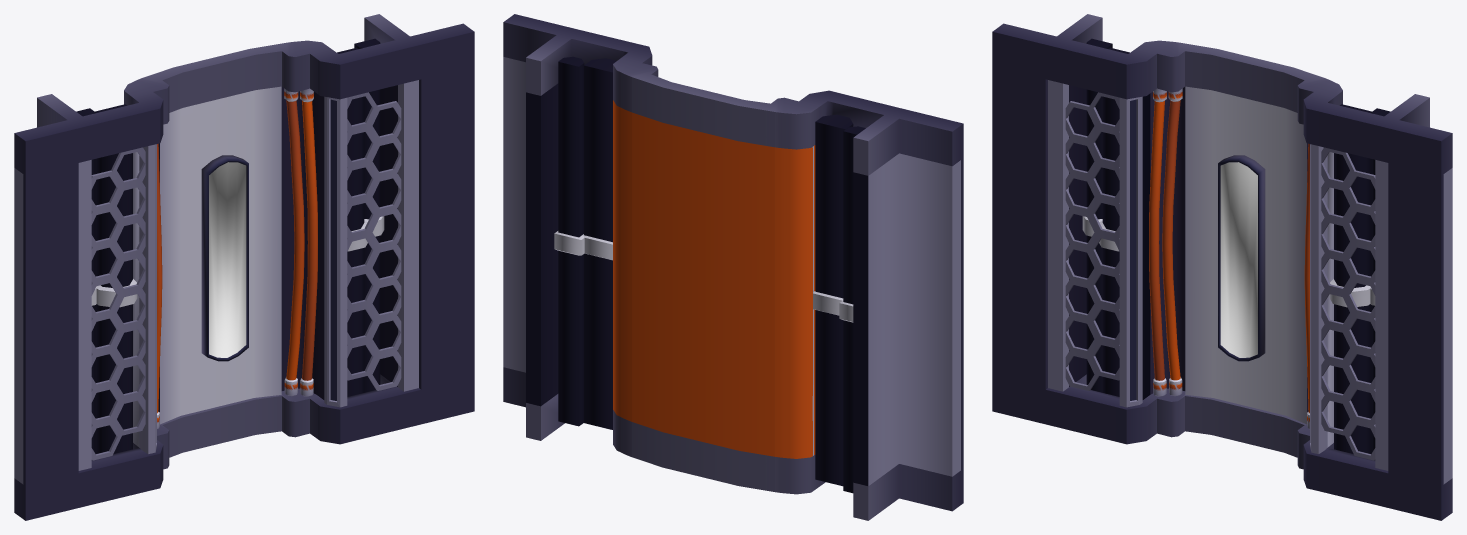
File: Ceiling_1.fbx
3 renders of one model, left to right at view 1: azimuth 30°, elevation 25°; view 2: azimuth 150°, elevation 25°; view 3: azimuth 330°, elevation 25°, orthographic.
Visible parts, largest first — view 1: Ceiling_1; view 2: Ceiling_1; view 3: Ceiling_1.
Part boxes in pixels (x1=…): Ceiling_1: x1=14, y1=14, x2=474, y2=520; Ceiling_1: x1=503, y1=14, x2=963, y2=520; Ceiling_1: x1=992, y1=14, x2=1452, y2=520.
Bounding box in the file's own units: 3.56 × 2.88 × 0.5787.
Materials: 2 (1 with a texture image).
